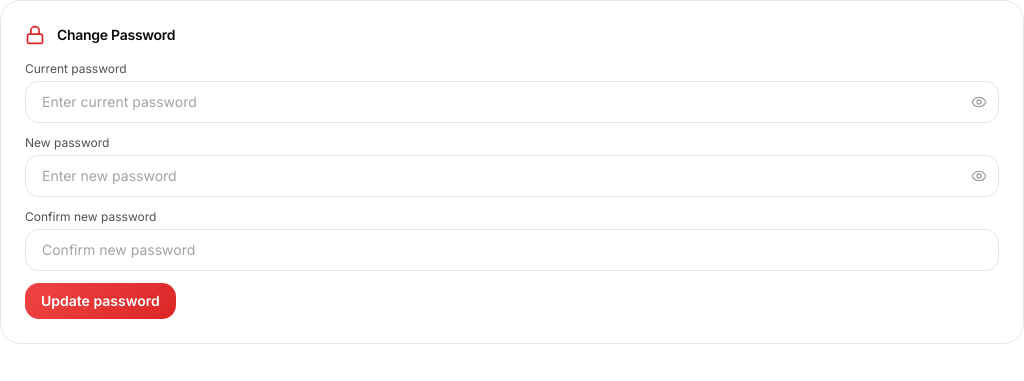
Test: ChangePasswordForm › rejects a password mismatch on the confirmation field
In the password field with placeholder "Enter current password": (512, 102) 25,81 -> 999,123, type "old"
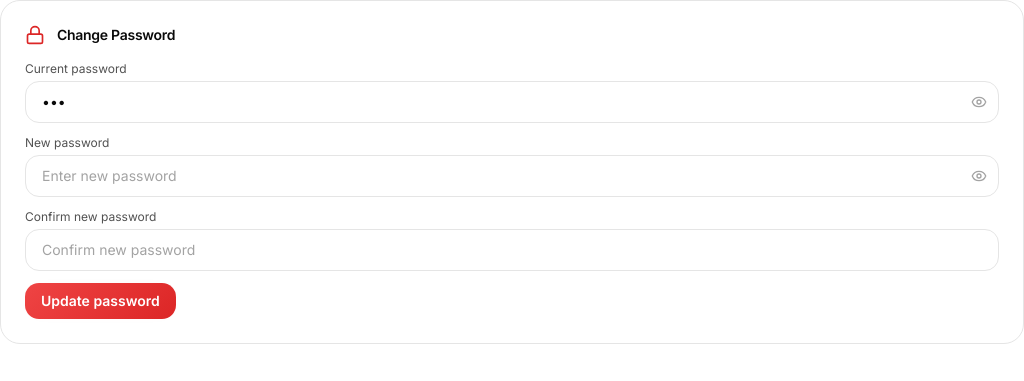
In the password field with placeholder "Enter new password": (512, 176) 25,155 -> 999,197, type "Abcdefgh123!"
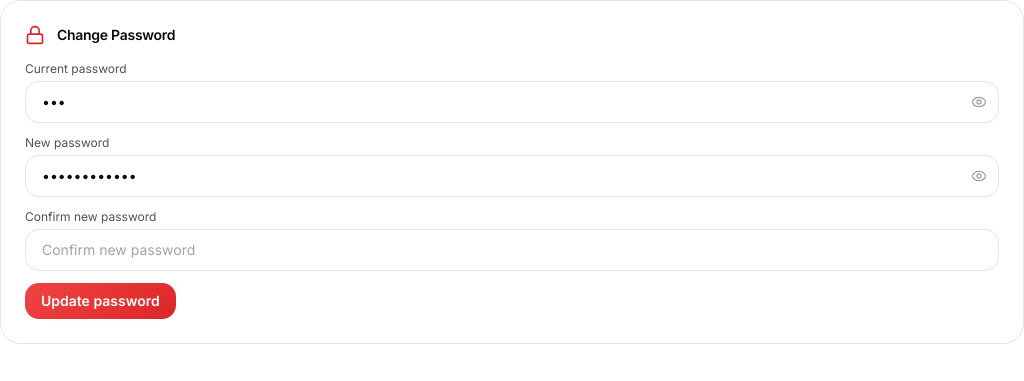
In the password field with placeholder "Confirm new password": (512, 250) 25,229 -> 999,271, type "Different123!"
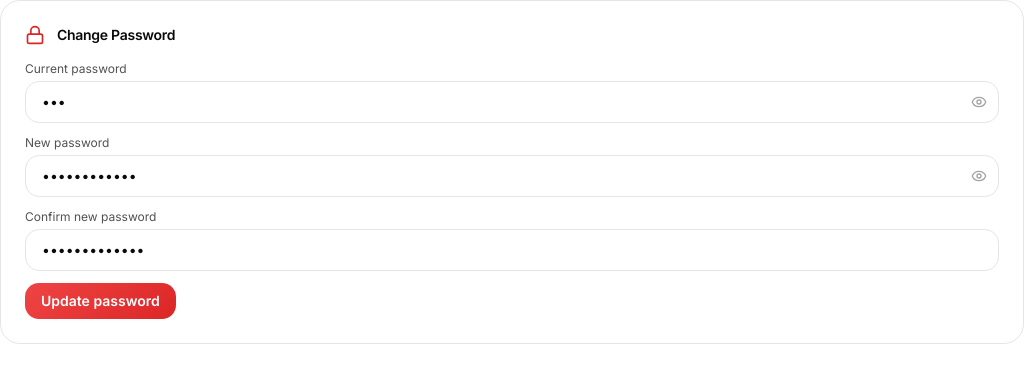
Click the button "Update password": (100, 301) 25,283 -> 176,319
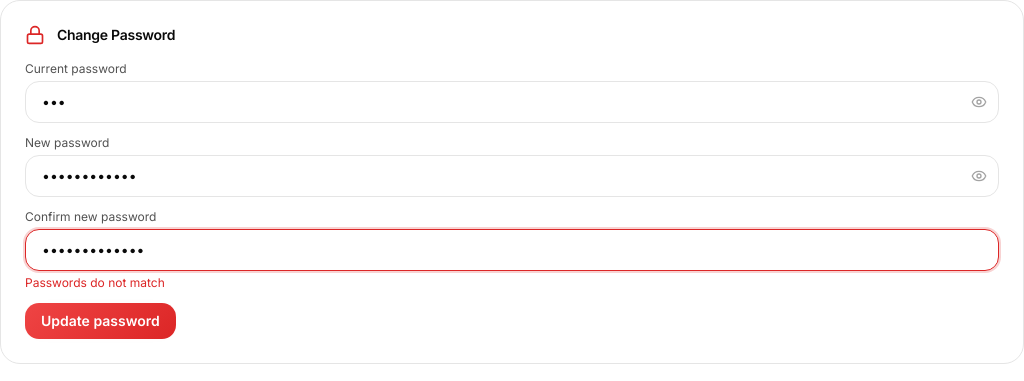
Now the text "Passwords do not match" is shown, box 25,275 -> 165,290
